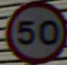Speed limit: (8, 2, 64, 59)
